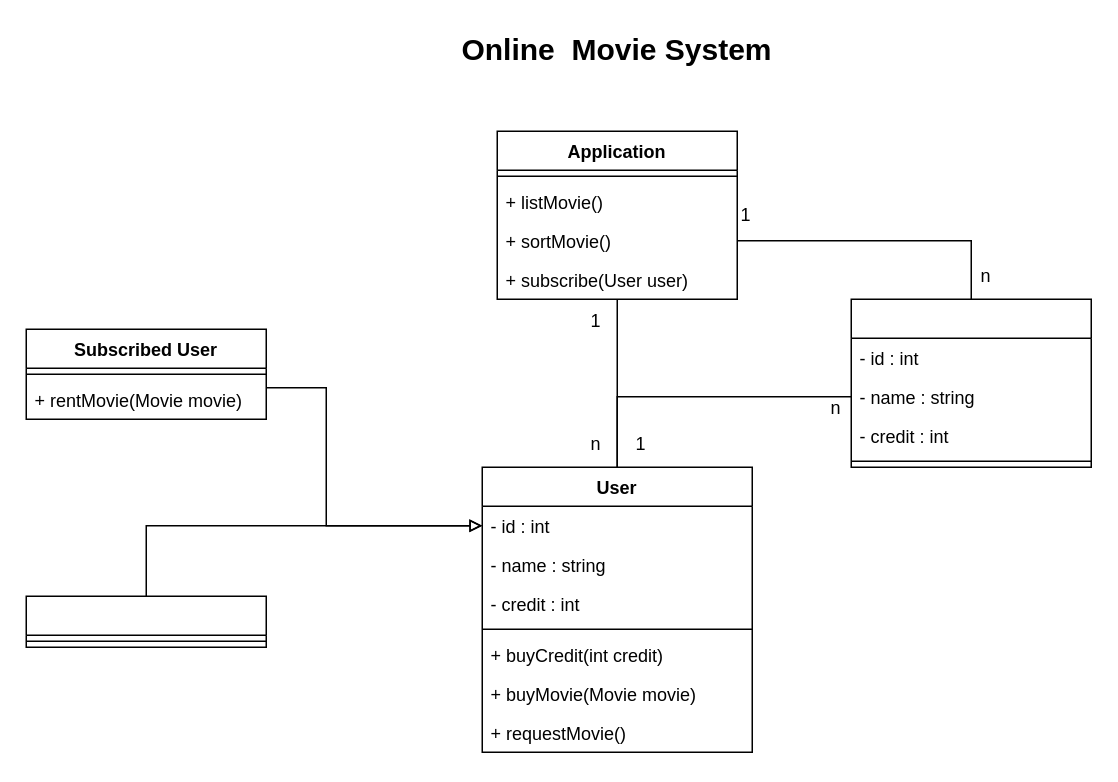
The diagram is 1118 pixels wide and 782 high, and some of its shapes have lost their labels. The box of each missing label's shape, as (x1, y1, x2, y2) in pixels:
Movie: (850, 298, 1091, 467)
Normal User: (25, 595, 266, 647)
